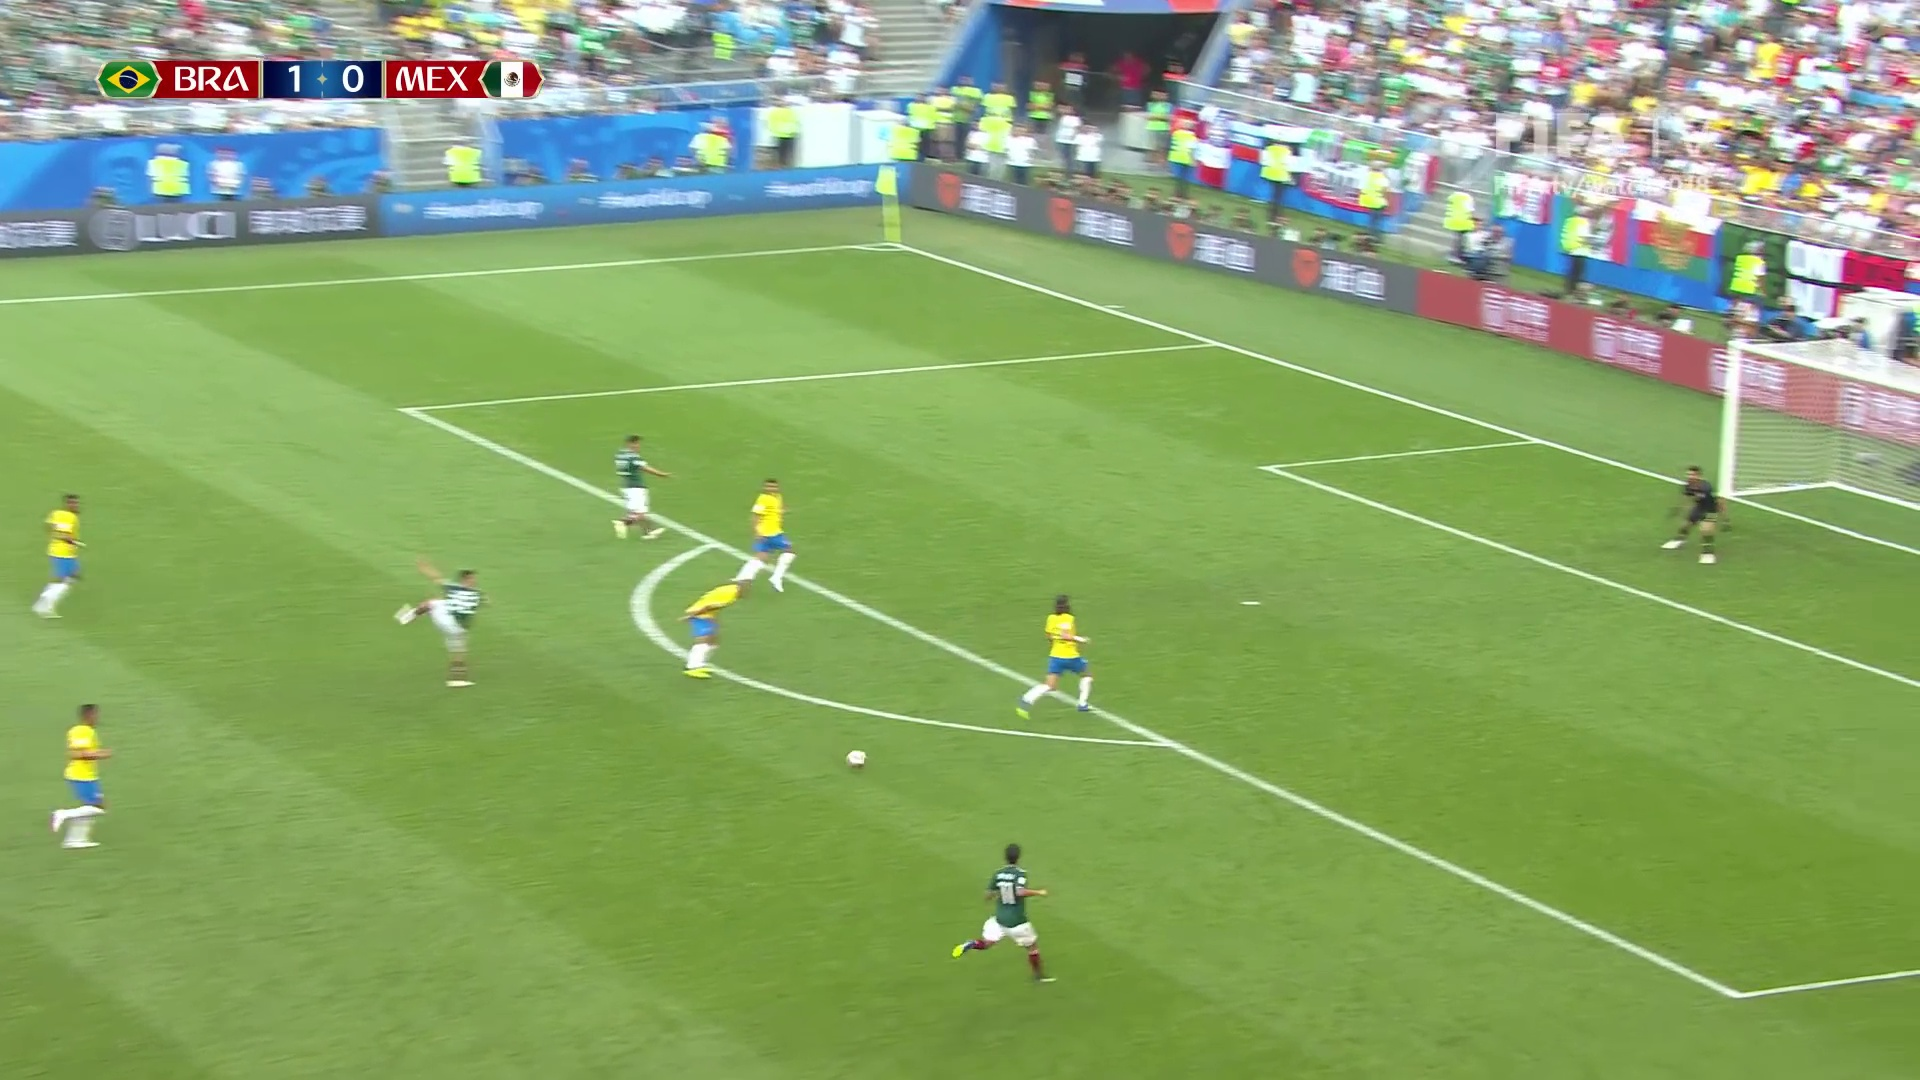ball: (845, 750, 867, 770)
person: (951, 842, 1055, 984), (403, 554, 486, 686), (1019, 593, 1090, 716), (56, 702, 115, 848), (680, 577, 751, 677), (609, 432, 669, 539), (36, 494, 85, 620), (738, 479, 792, 587), (1672, 469, 1732, 555)
